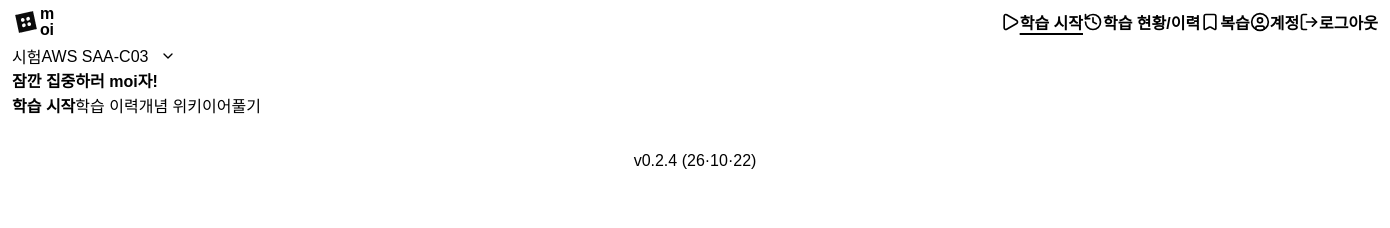
라우터·AppShell 내비게이션 (#148) › nav 링크로 /history 이동 시 요약 탭이 열린다 (#224 AC 1 — 목록은 완료 탭)
The image size is (1390, 228).
Click the link "학습 현황/이력": [1142, 22] box top-left (1083, 12), bottom-right (1200, 32)
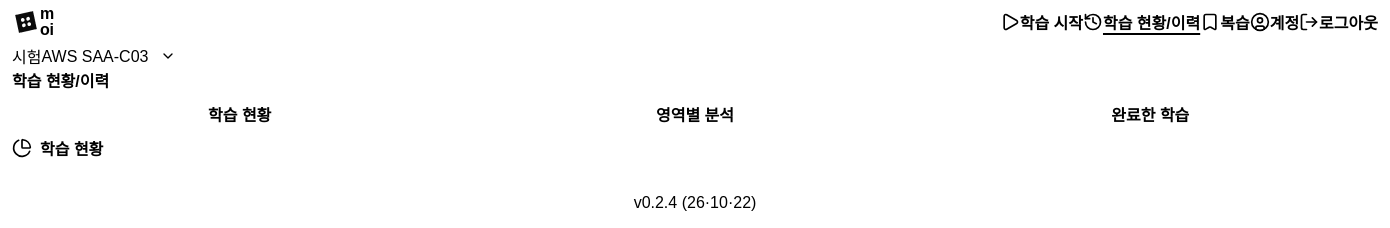
expect the tab "학습 현황" is shown: met, box top-left (12, 92), bottom-right (467, 136)
